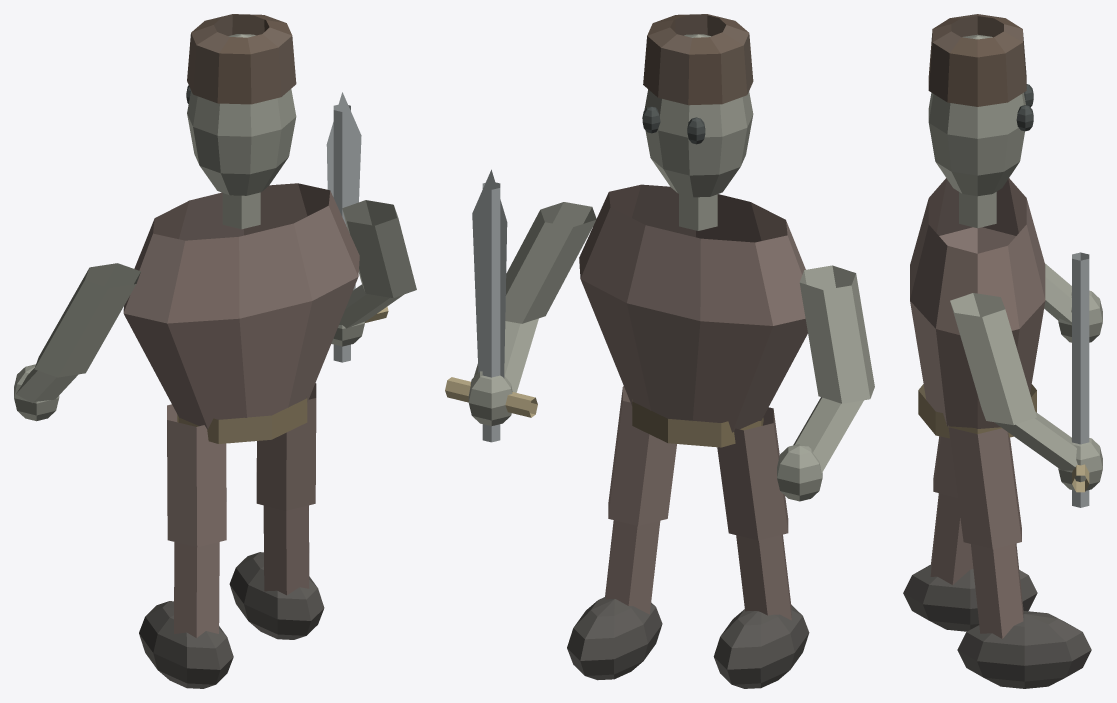
Rendered from bruto.gltf.
3 views of the same model, side by side, from view 1: azimuth 30°, elevation 25°; view 2: azimuth 150°, elevation 25°; view 3: azimuth 270°, elevation 25° (orthographic). The views are drawn at different scales.
Parts seen in each view (by area): view 1: bruto; view 2: bruto; view 3: bruto.
Boxes of the visible parts, <box> form: bruto: <box>14,14,416,688</box>; bruto: <box>445,14,874,688</box>; bruto: <box>903,14,1102,688</box>.
Bounding box in the file's own units: 1.1 × 1.75 × 0.5048.
